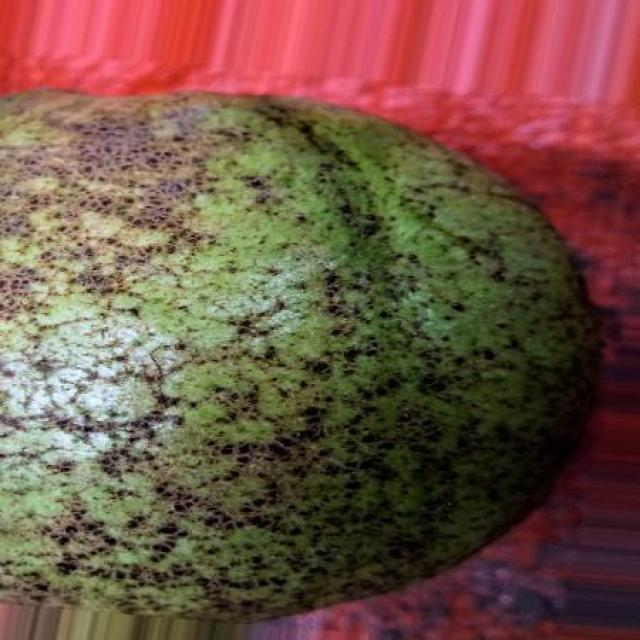Scab: (0, 92, 598, 617)
